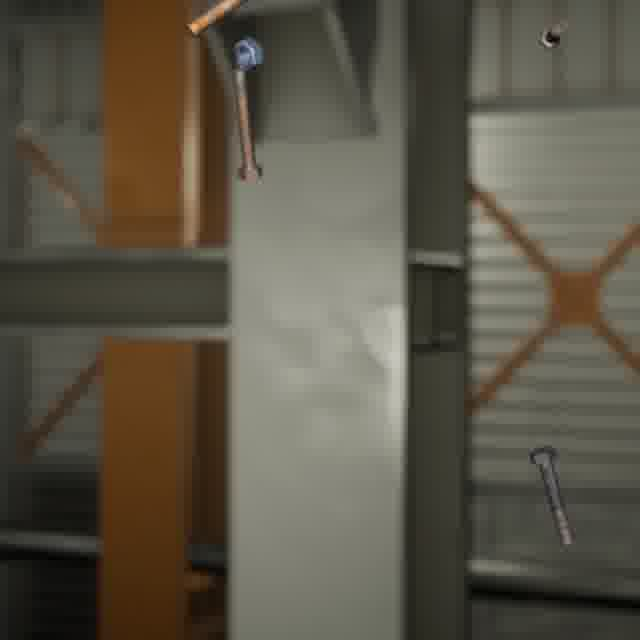bolt: (524, 441, 578, 550), (228, 63, 266, 184), (181, 0, 254, 42), (535, 15, 571, 53)
nut: (230, 33, 267, 74)
